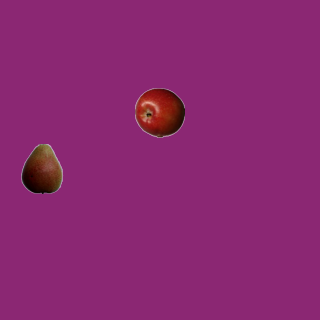Apple Braeburn: (134, 87, 184, 137)
Pear Forelle: (16, 143, 66, 193)
